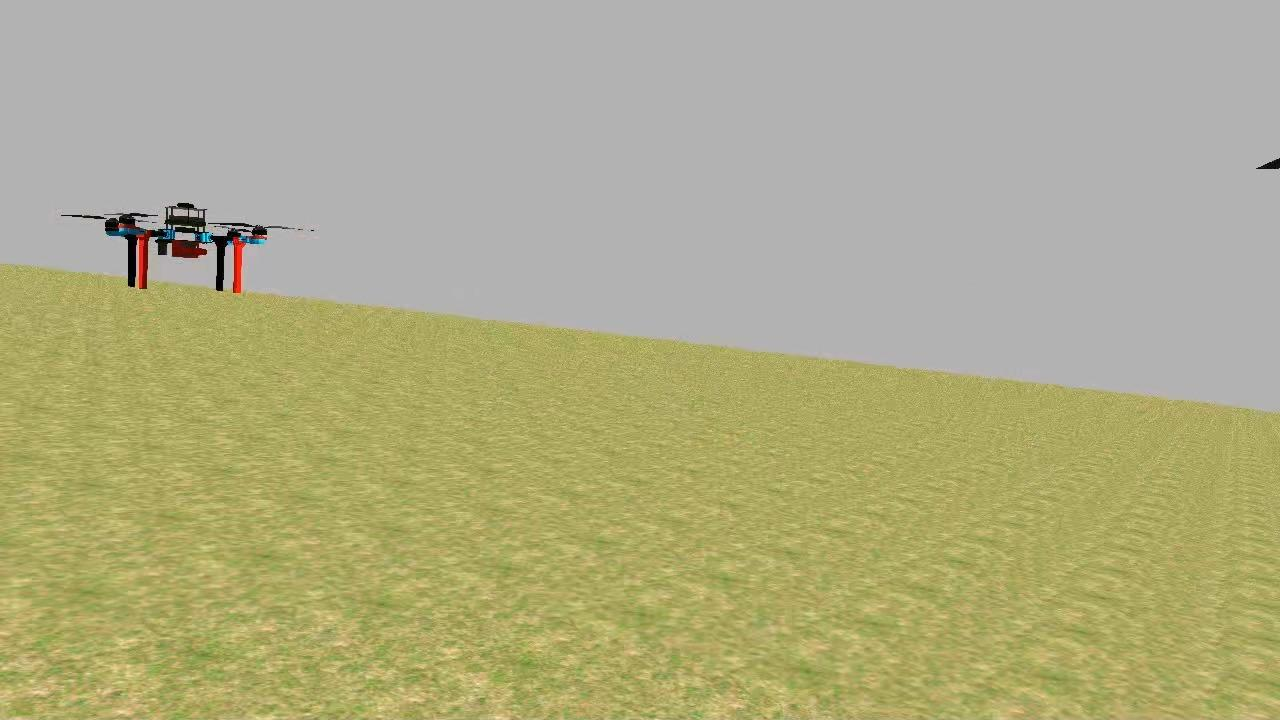UAV: (94, 186, 270, 300)
